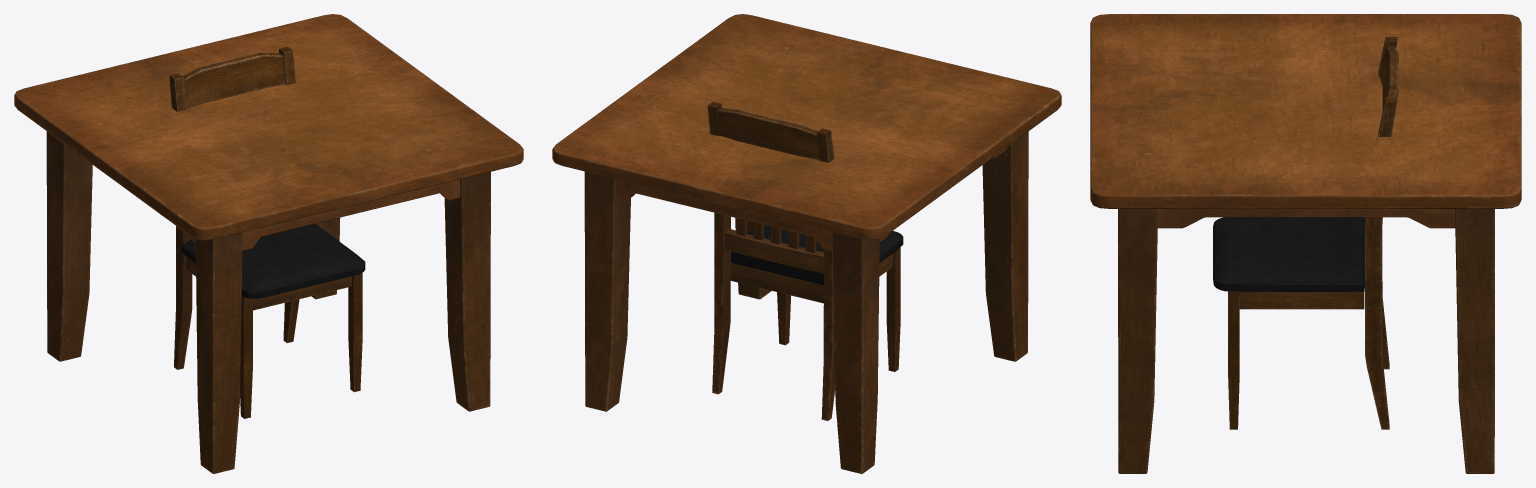
The model's file is room_table.glb.
3 views of the same model, side by side, from view 1: azimuth 30°, elevation 25°; view 2: azimuth 150°, elevation 25°; view 3: azimuth 270°, elevation 25° (orthographic). The views are drawn at different scales.
Parts seen in each view (by area): view 1: table, chair; view 2: table, chair; view 3: table, chair.
Part boxes in pixels (x1,y1,x2,y2): table: [14, 14, 523, 473]; chair: [169, 46, 365, 418]; table: [552, 14, 1061, 473]; chair: [707, 102, 903, 420]; table: [1090, 14, 1521, 473]; chair: [1213, 37, 1398, 429].
Bounding box in the file's own units: 1 × 0.8399 × 1.
2 materials, 2 textured.
